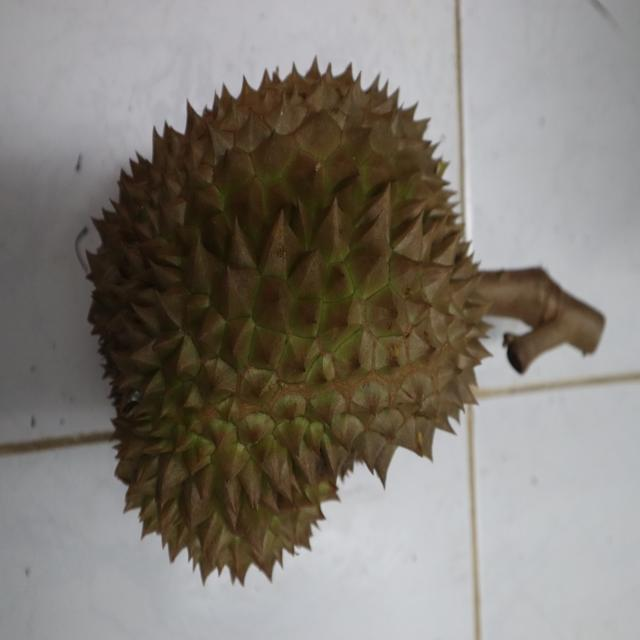mature: (82, 52, 492, 587)
